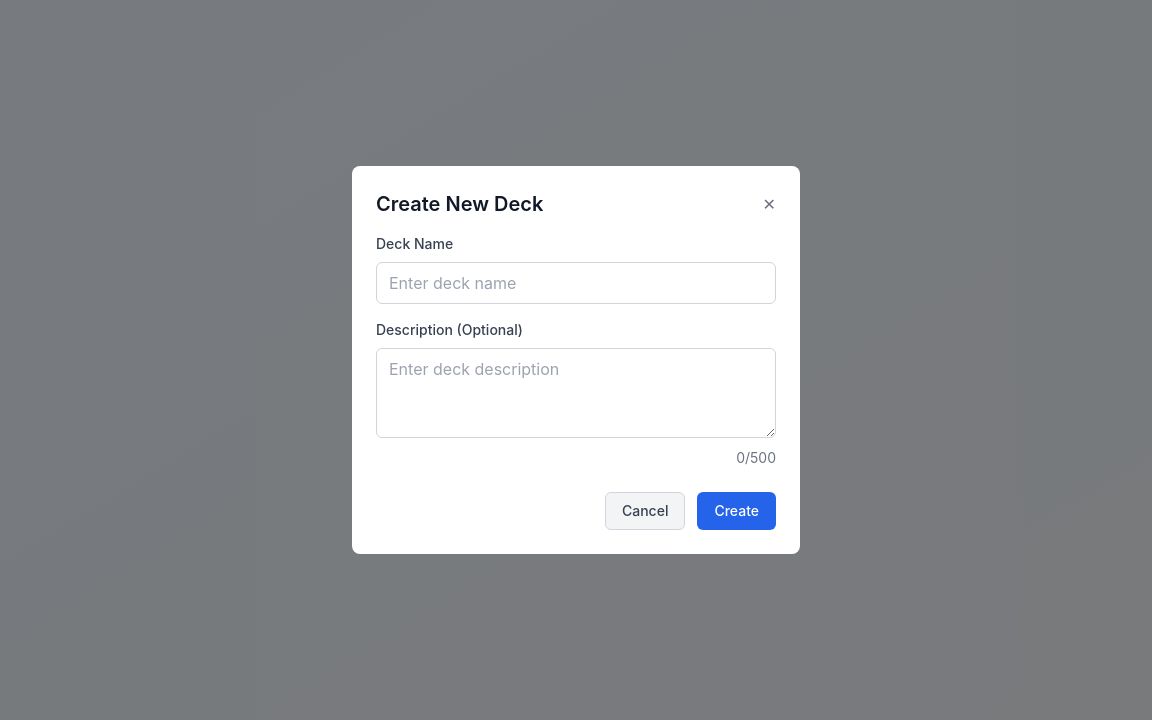
Scenario: CreateDeckModal - Description Input › should show character count
In the text box labelled "Description (Optional)": [576, 393] box [376, 348, 776, 438], type "Test"
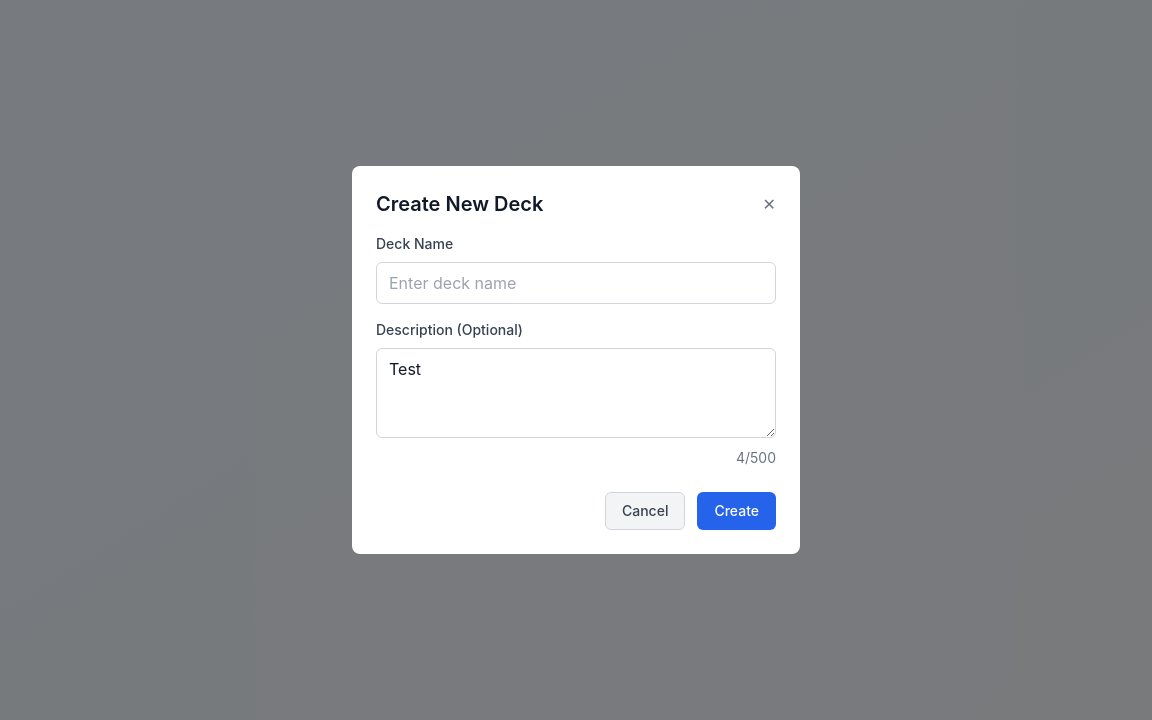
Check: the text "4/500" is shown, box [736, 448, 776, 468]
